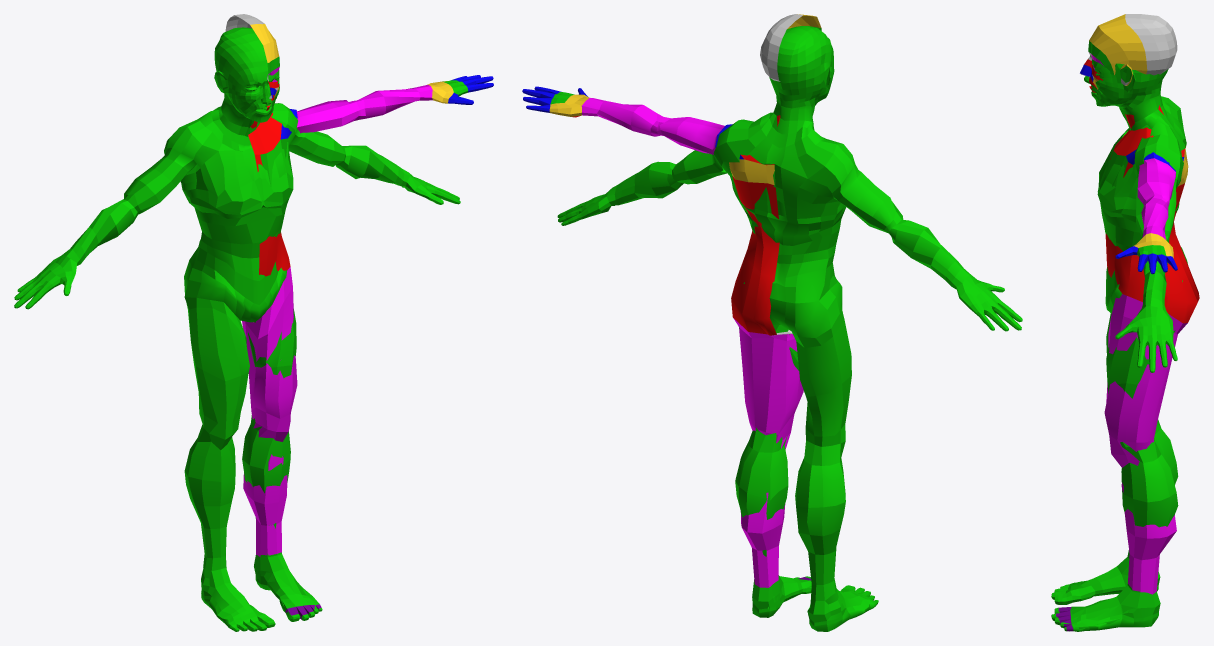
The model's file is Human skin.obj.
The picture shows the model from 3 angles, left to right: view 1: azimuth 30°, elevation 25°; view 2: azimuth 150°, elevation 25°; view 3: azimuth 270°, elevation 25°; orthographic projection. The views are drawn at different scales.
Visible parts, largest first — view 1: GenericMesh1, BasicMesh; view 2: GenericMesh1, BasicMesh; view 3: BasicMesh, GenericMesh1.
Part boxes in pixels (x1,y1,x2,y2): GenericMesh1: (14,27,460,631); BasicMesh: (225,14,493,619); GenericMesh1: (557,26,1022,631); BasicMesh: (522,14,821,617); BasicMesh: (1056,14,1199,631); GenericMesh1: (1051,59,1187,631).
Size of the model in its own units: 31.6 by 36.31 by 8.18.
